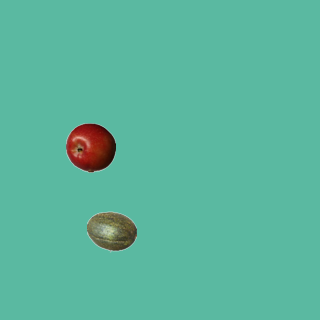Apple Braeburn: (65, 122, 115, 172)
Melon Piel de Sapo: (86, 206, 136, 256)
